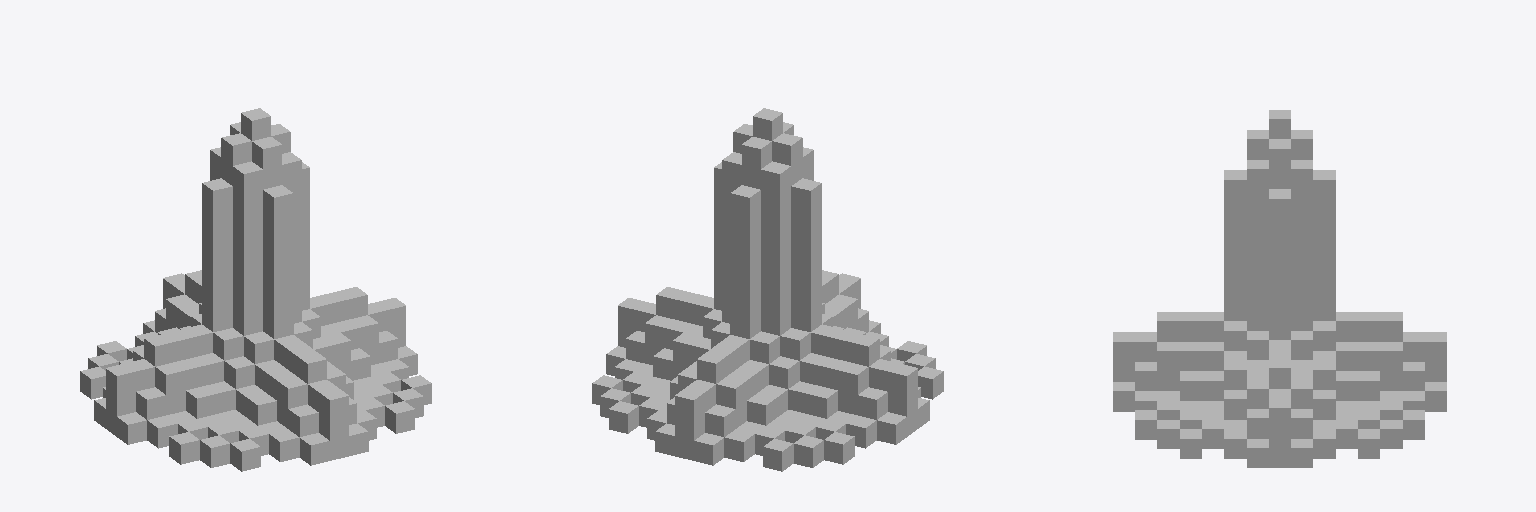
The model's file is laser.obj.
3 views of the same model, side by side, from view 1: azimuth 30°, elevation 25°; view 2: azimuth 150°, elevation 25°; view 3: azimuth 270°, elevation 25° (orthographic).
Bounding box in the file's own units: 15 × 14 × 15.